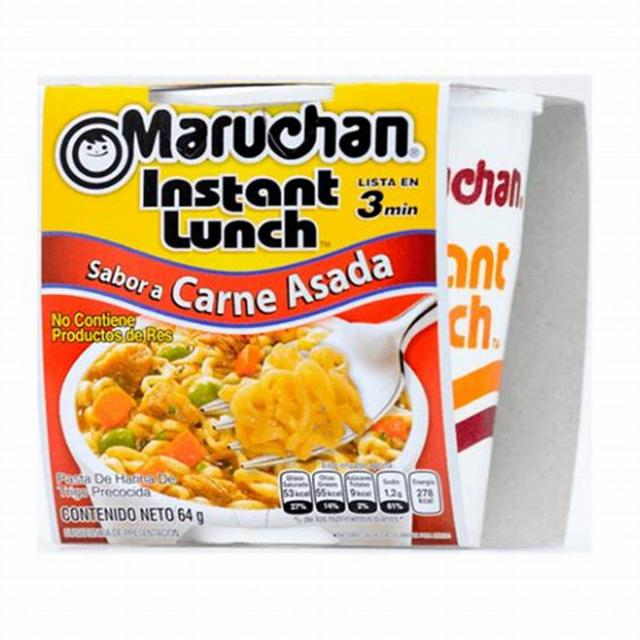Caja: (32, 54, 595, 562)
